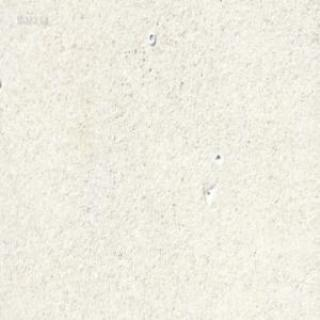Washertrack_idkeyframe: (147, 31, 154, 44)
